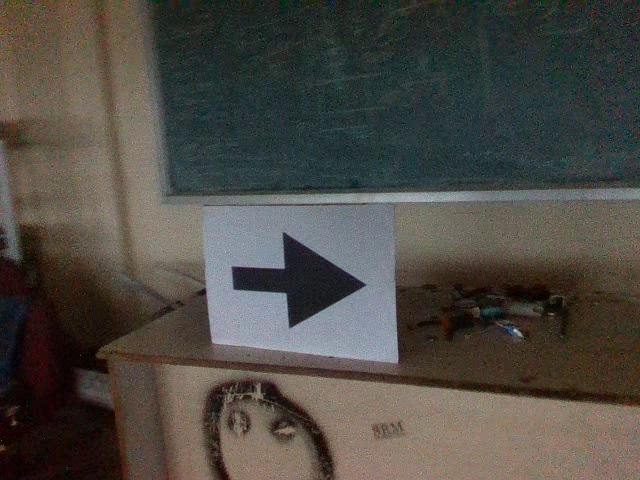Right: (216, 223, 371, 336)
